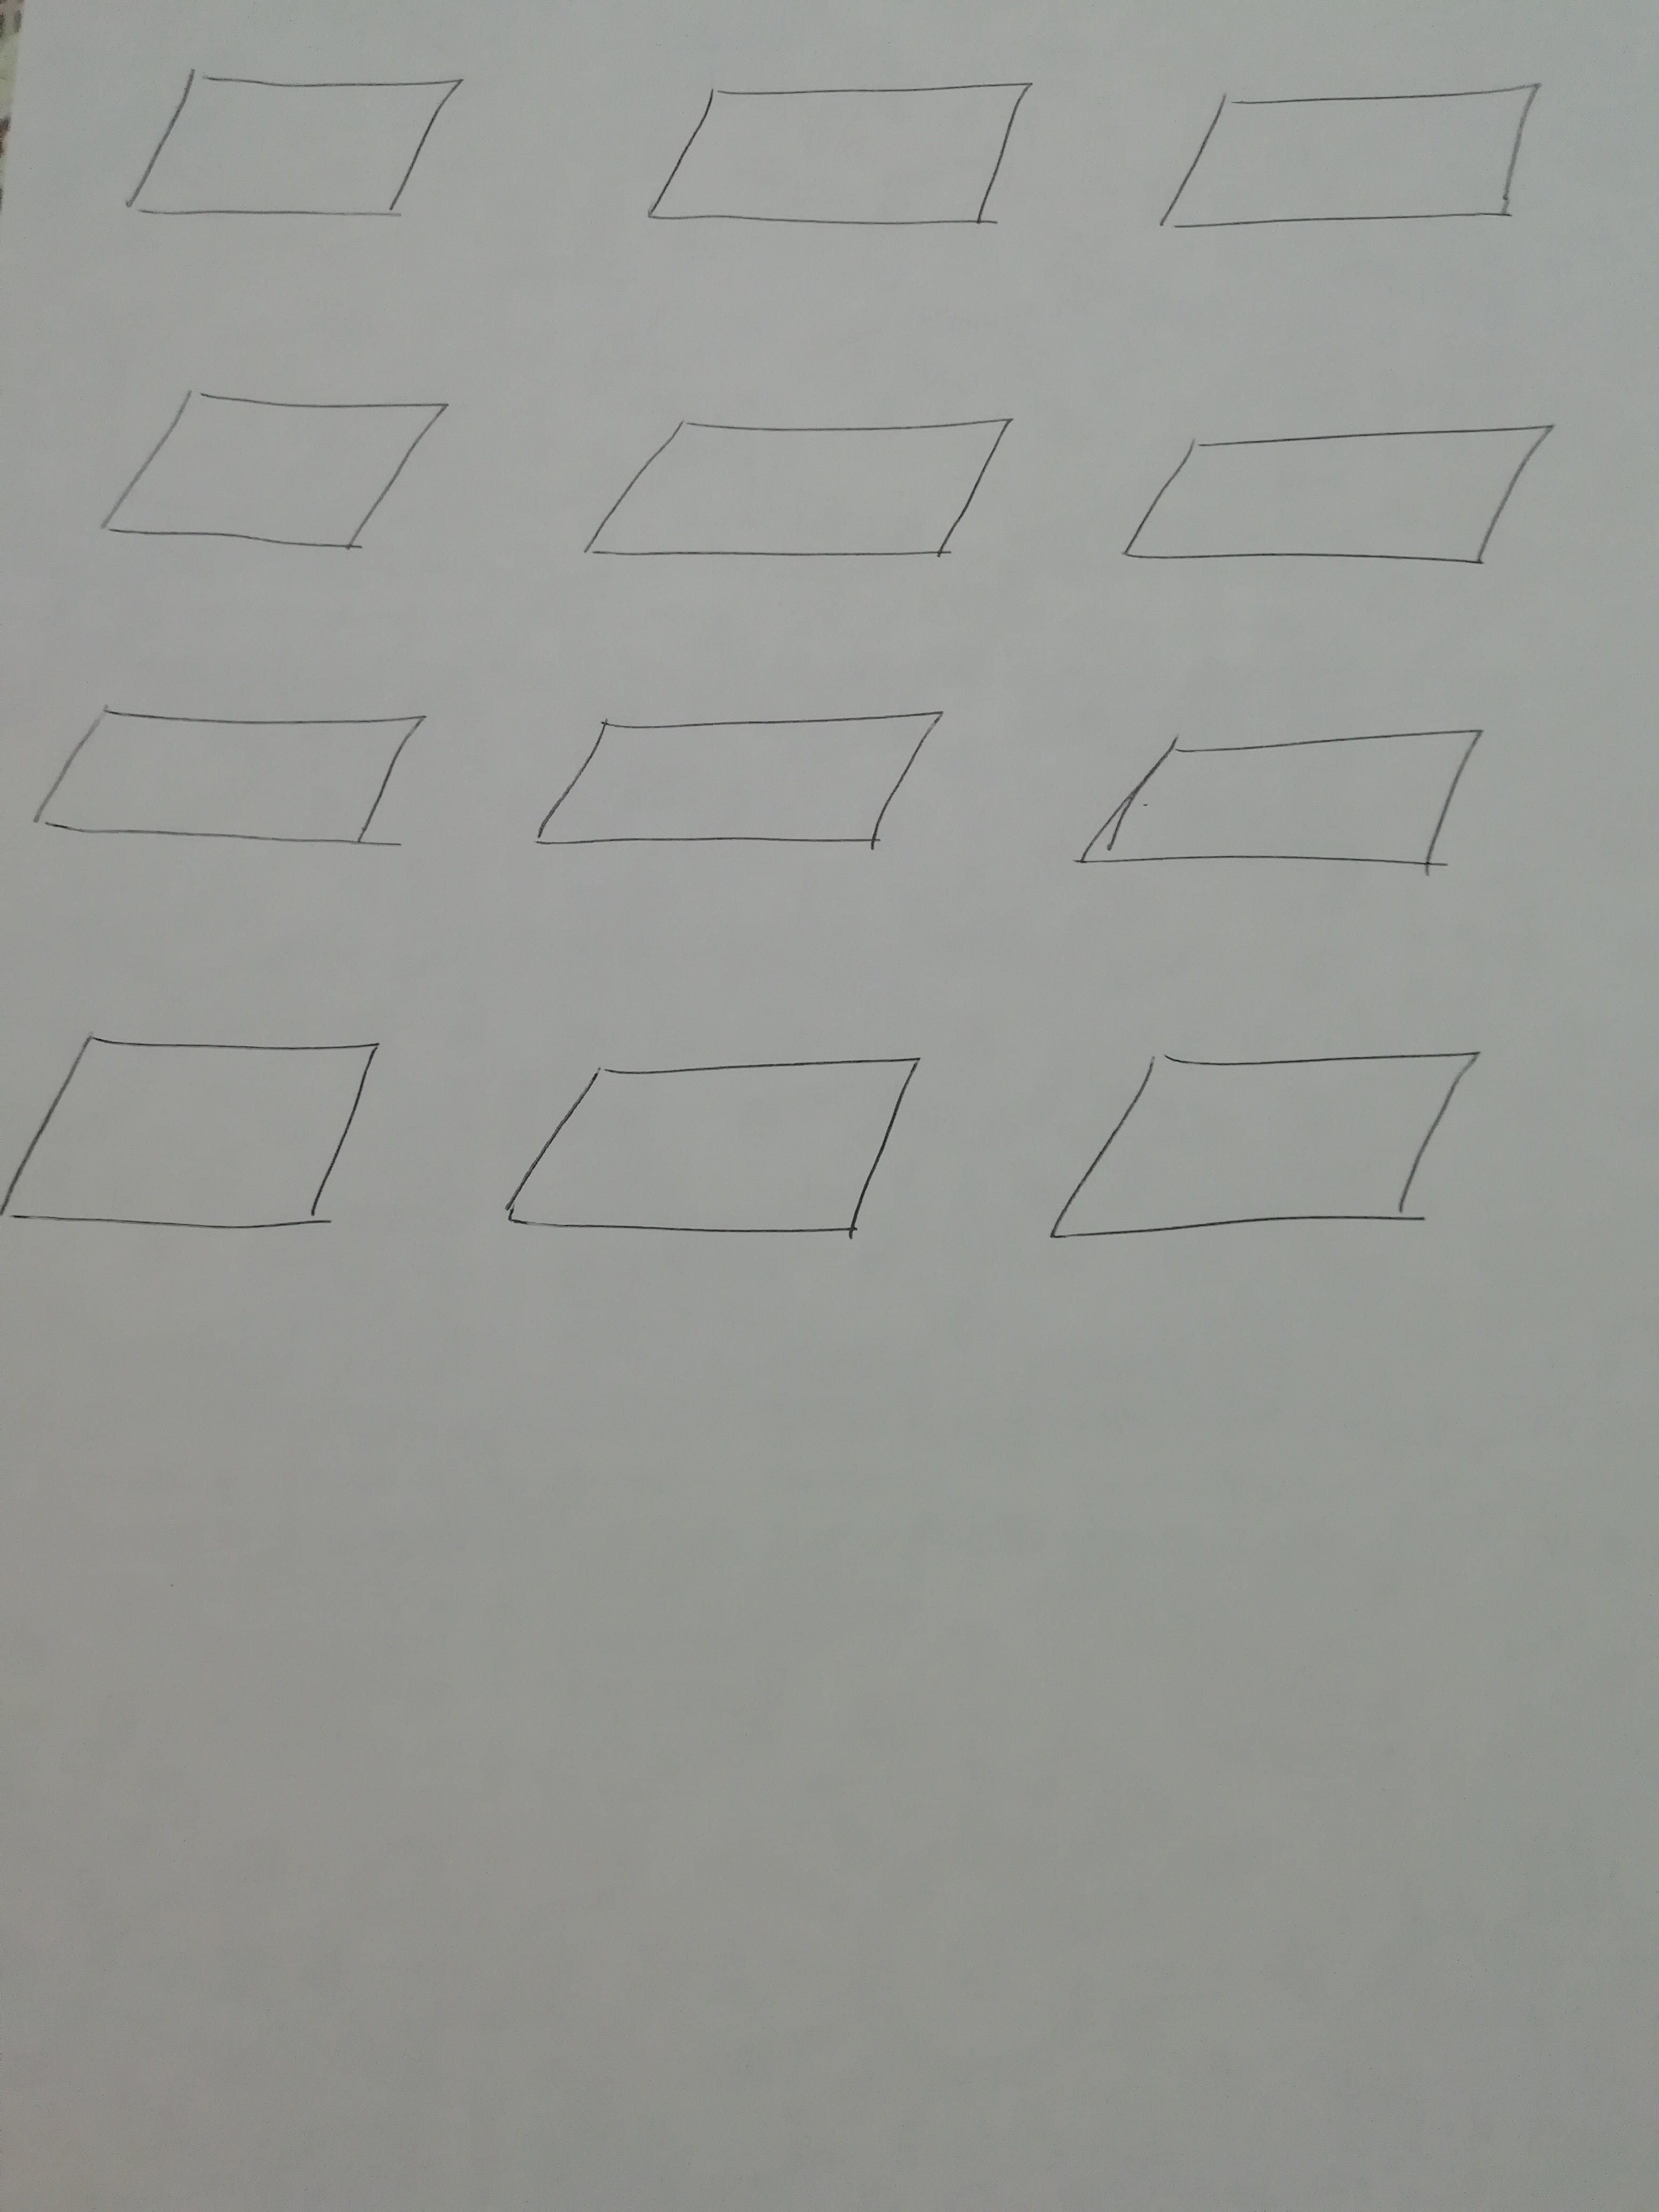scan: (1030, 1017, 1534, 1298), (458, 1017, 955, 1277), (540, 380, 1058, 624), (0, 1010, 413, 1291), (615, 42, 1065, 294), (9, 660, 458, 907), (59, 343, 476, 599), (1040, 695, 1516, 918), (502, 691, 983, 897), (1133, 45, 1558, 268), (1103, 404, 1582, 599), (115, 21, 491, 268)
